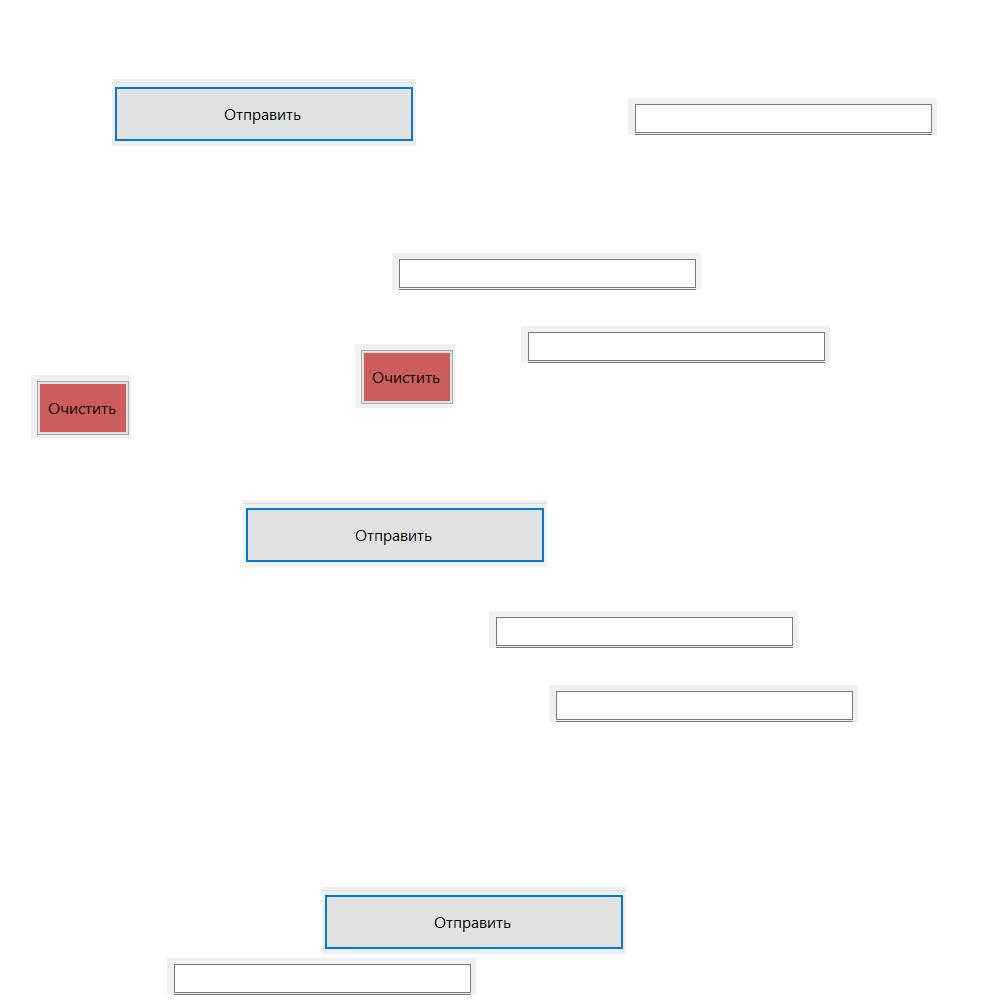Button: (112, 79, 416, 146), (322, 887, 626, 954), (243, 500, 547, 567), (31, 375, 131, 439), (355, 344, 455, 408)
EditText-: (628, 98, 937, 135), (549, 685, 858, 722), (489, 611, 798, 648), (392, 253, 701, 290), (521, 326, 830, 363), (167, 958, 476, 995)
